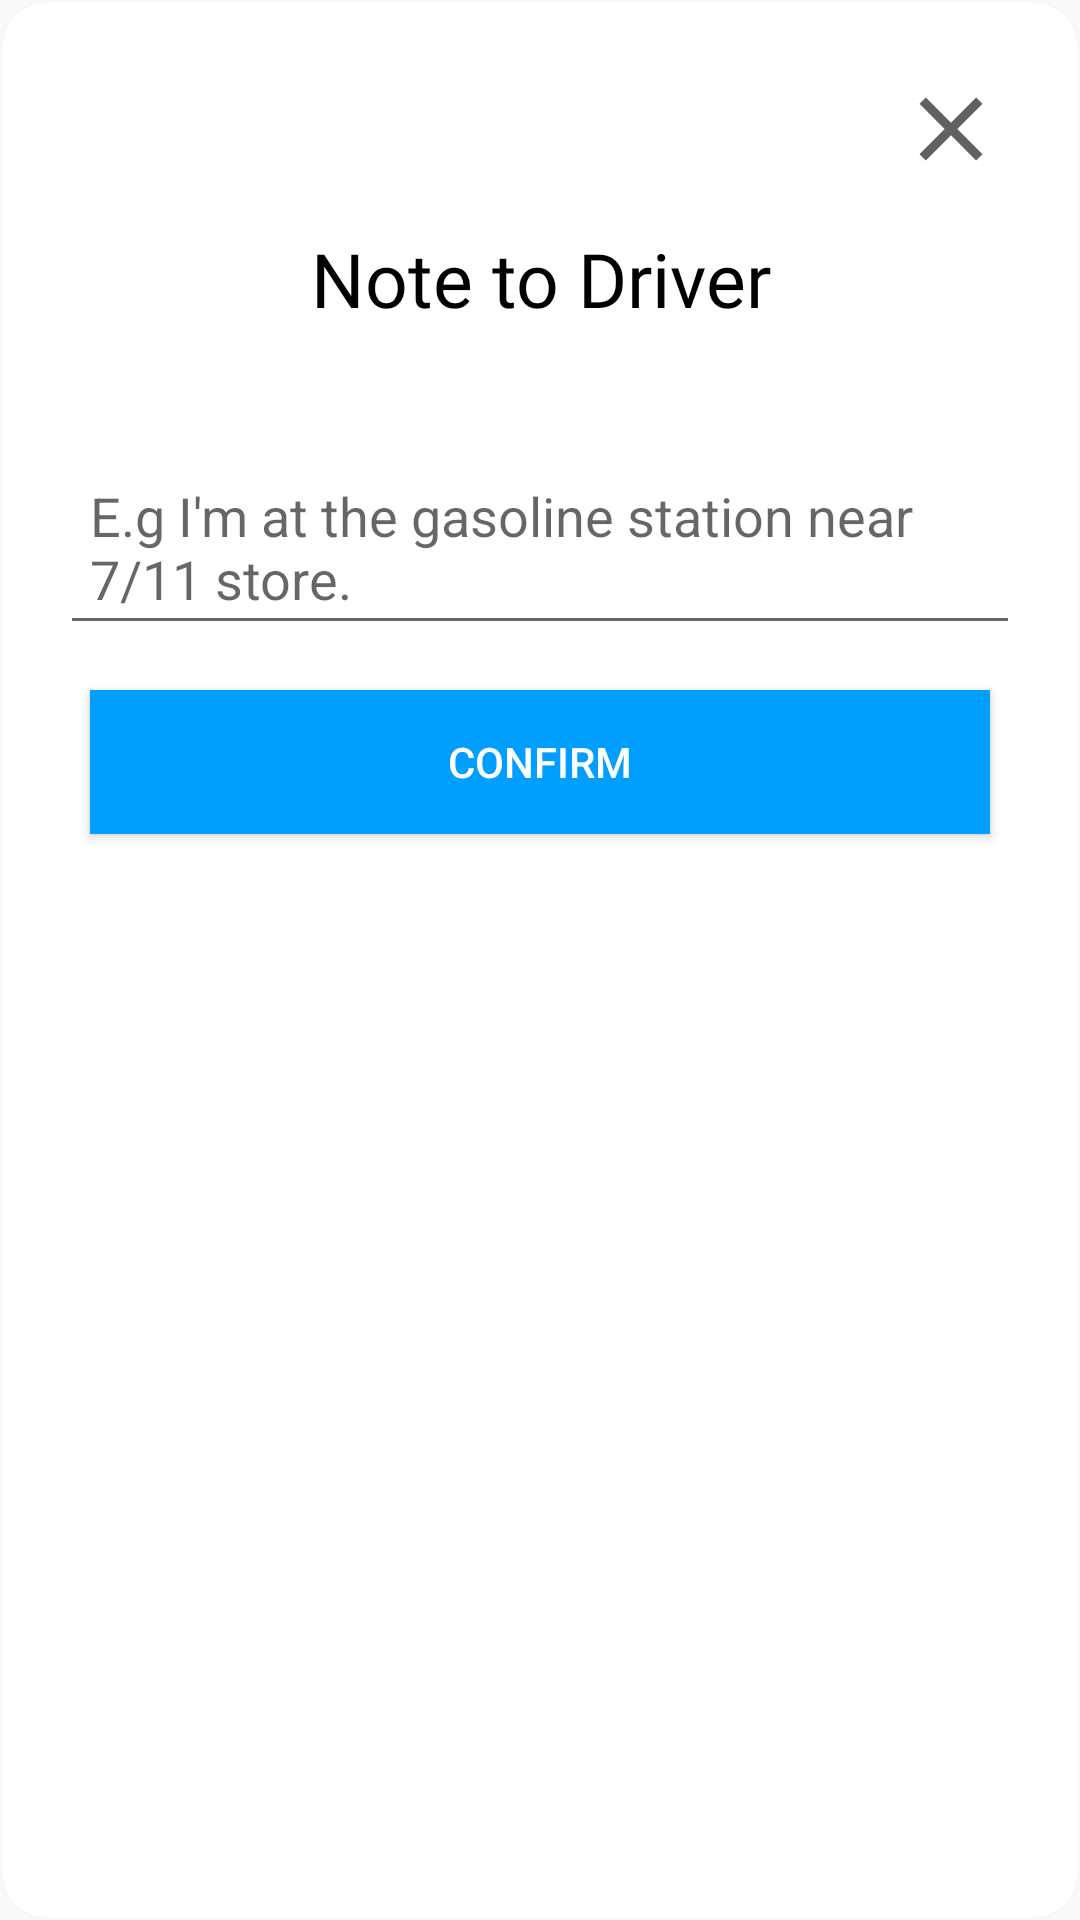

Where icons sit on this 1080px×1920px app screen, as (x1, y1, x2, y2):
close: (919, 97, 983, 161)
